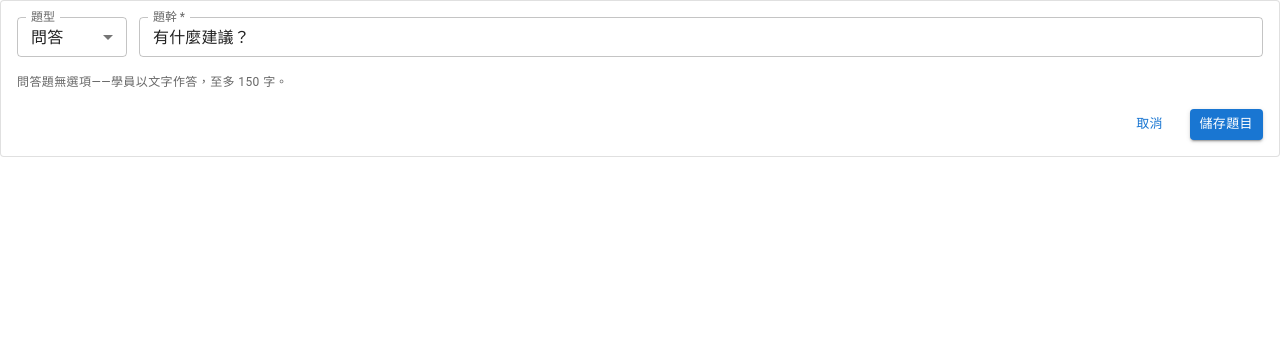
Test: 問卷題目編輯器：切換題型 › 切回單選後未填選項會被擋下
The width and height of the screenshot is (1280, 345).
Click the dropdown named "題型": click(47, 37) [31, 28, 63, 46]
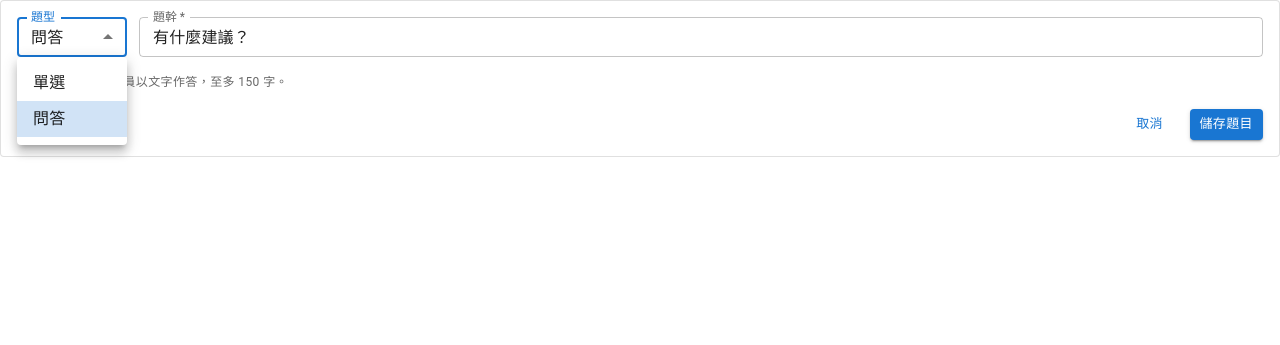
Click the option "單選": click(49, 82) [33, 73, 65, 92]
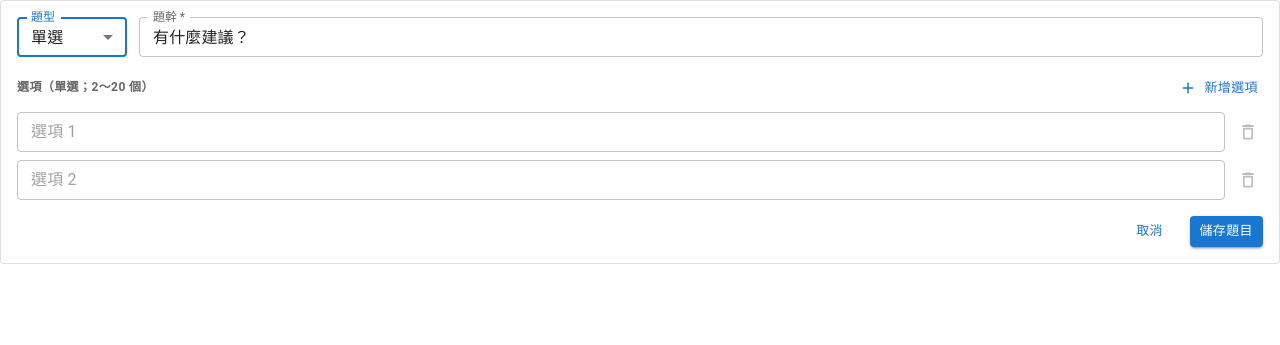
Click the button "儲存題目": click(1226, 231) [1190, 216, 1263, 247]
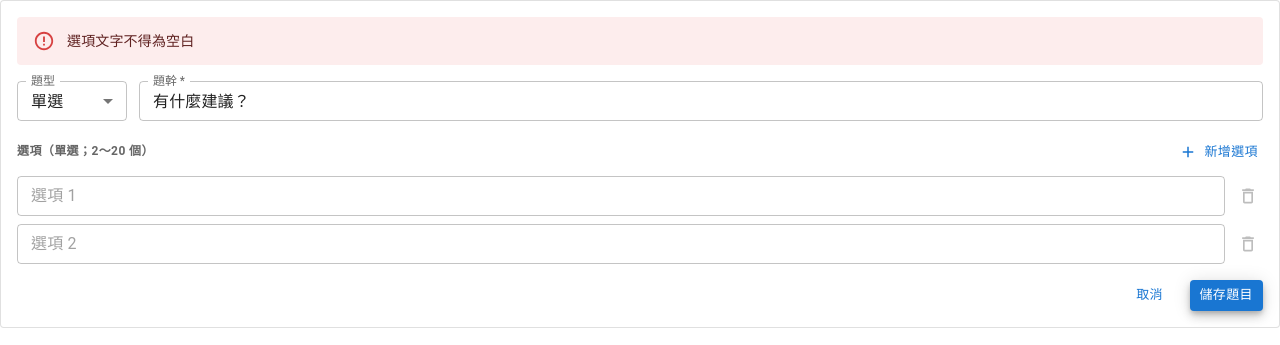
Expected: the text "選項文字不得為空白" is shown, [67, 33, 194, 49]
